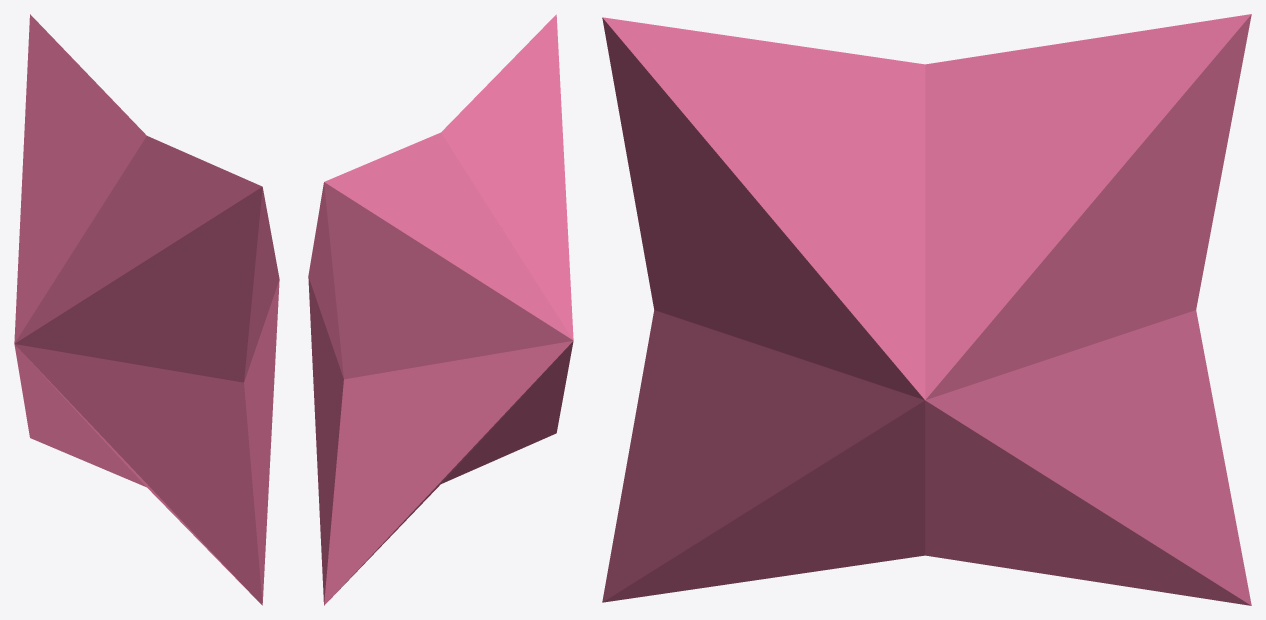
Rendered from StarDropletSymetric.fbx.
3 renders of one model, left to right at view 1: azimuth 30°, elevation 25°; view 2: azimuth 150°, elevation 25°; view 3: azimuth 270°, elevation 25°, orthographic. The views are drawn at different scales.
Parts seen in each view (by area): view 1: StarSliver.001; view 2: StarSliver.001; view 3: StarSliver.001.
Boxes of the visible parts, <box> form: StarSliver.001: <box>14,14,279,605</box>; StarSliver.001: <box>308,14,573,605</box>; StarSliver.001: <box>602,14,1251,605</box>.
Size of the model in its own units: 136 by 208 by 207.
